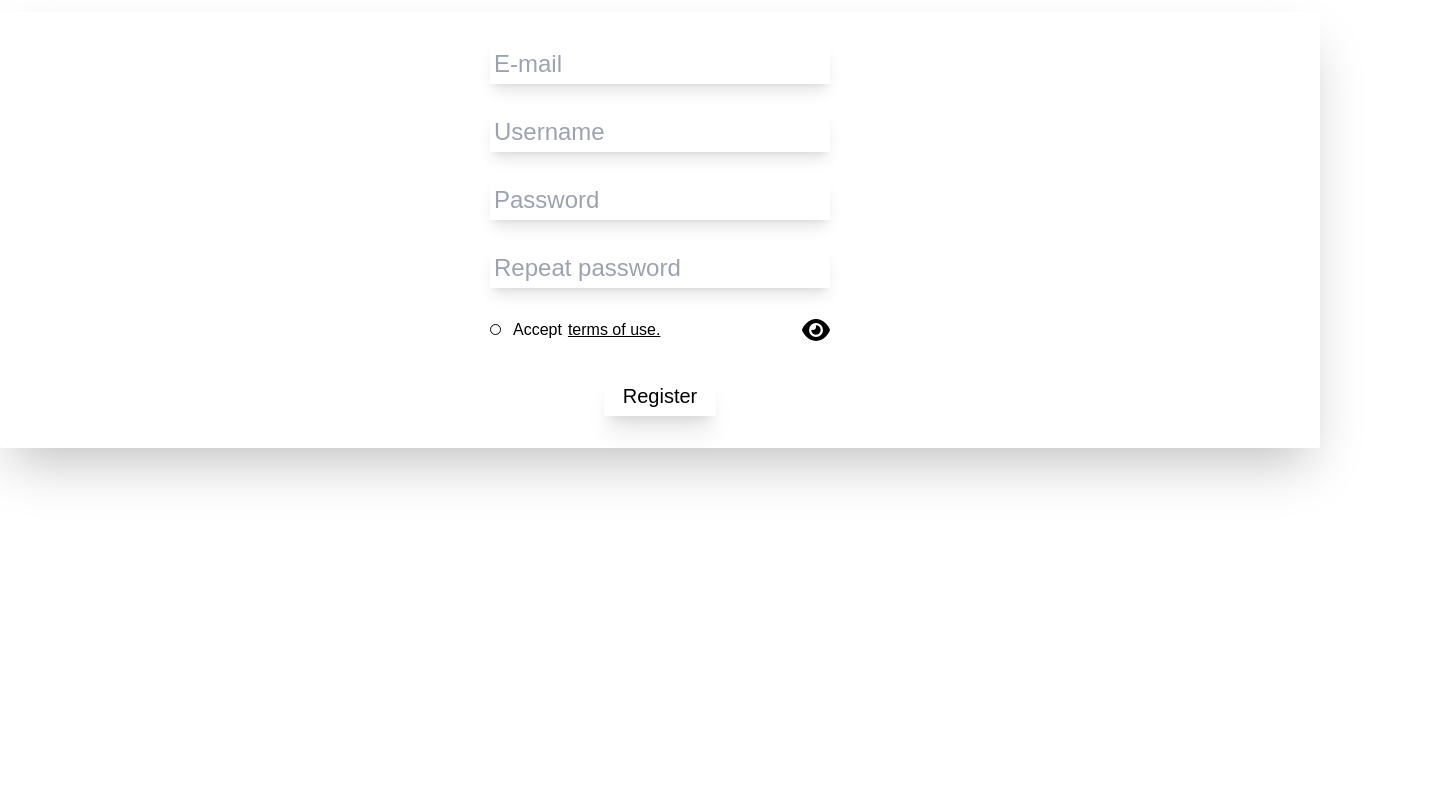
it: RegisterForm › should register user successfully when form is valid
The width and height of the screenshot is (1440, 810).
Type "valid@example.com" into the field with placeholder "E-mail".
click(660, 64); type("valid@example.com")  # box [490,44,830,84]
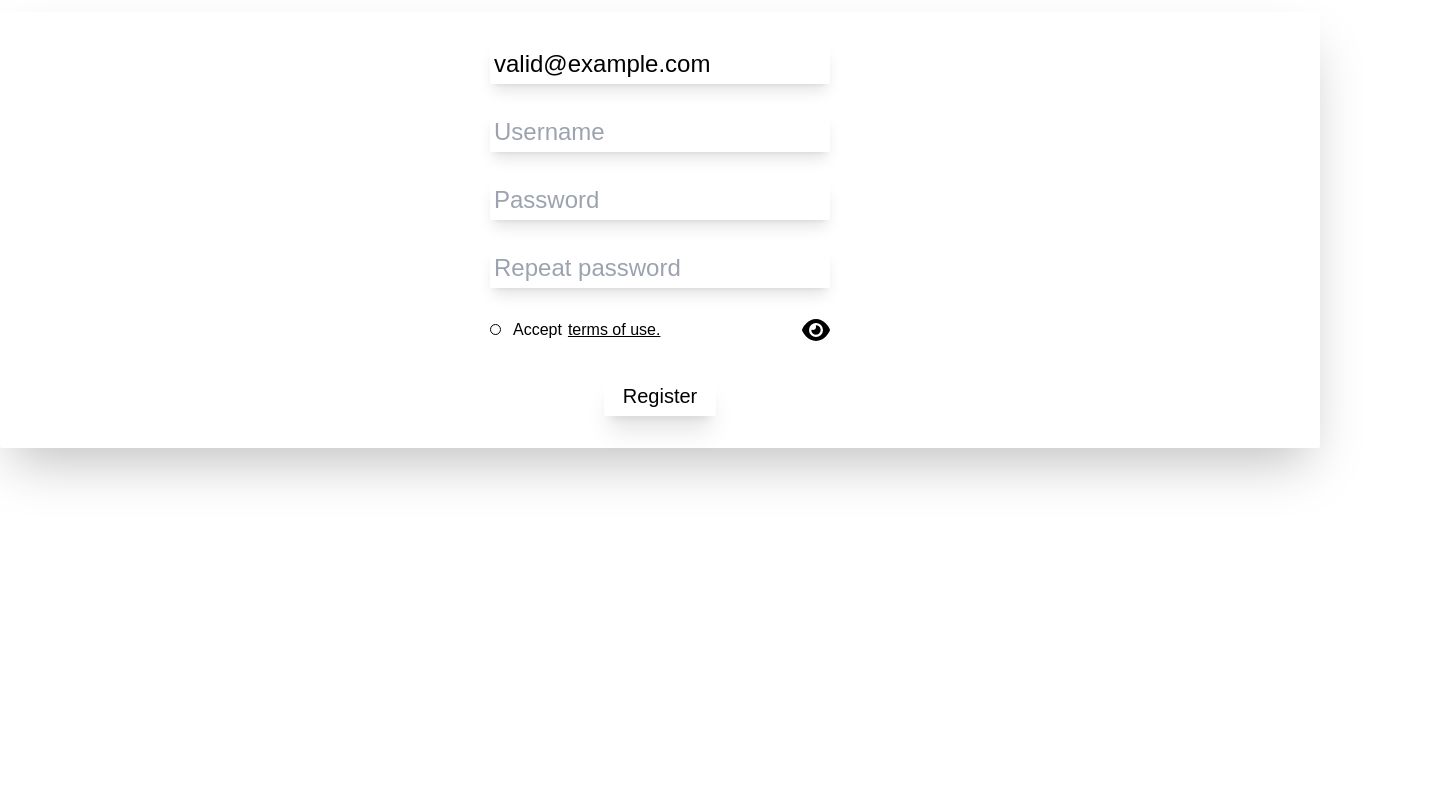
Type "validUsername" into the field with placeholder "Username".
click(660, 132); type("validUsername")  # box [490,112,830,152]
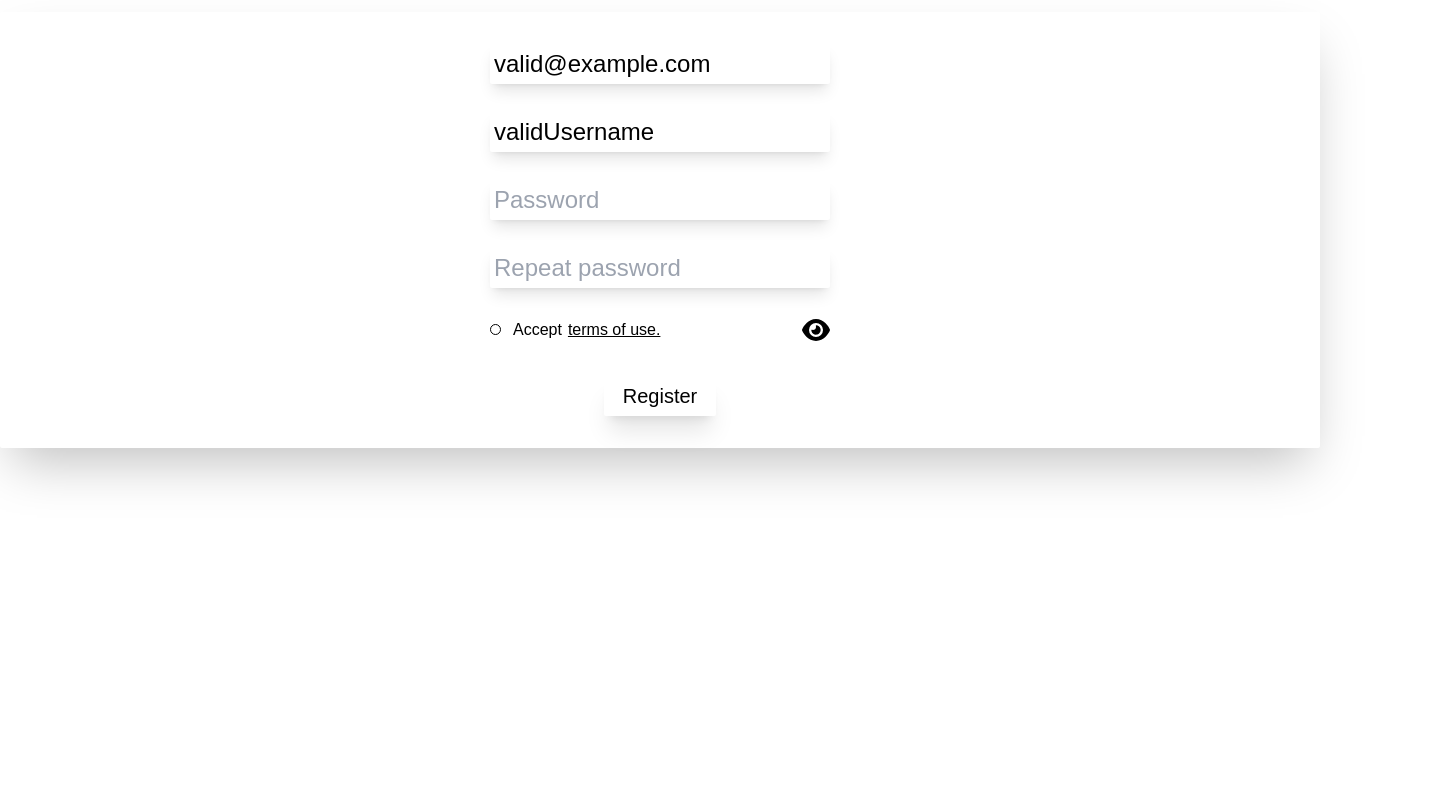
Type "Valid123" into the password field with placeholder "Password".
click(660, 200); type("Valid123")  # box [490,180,830,220]
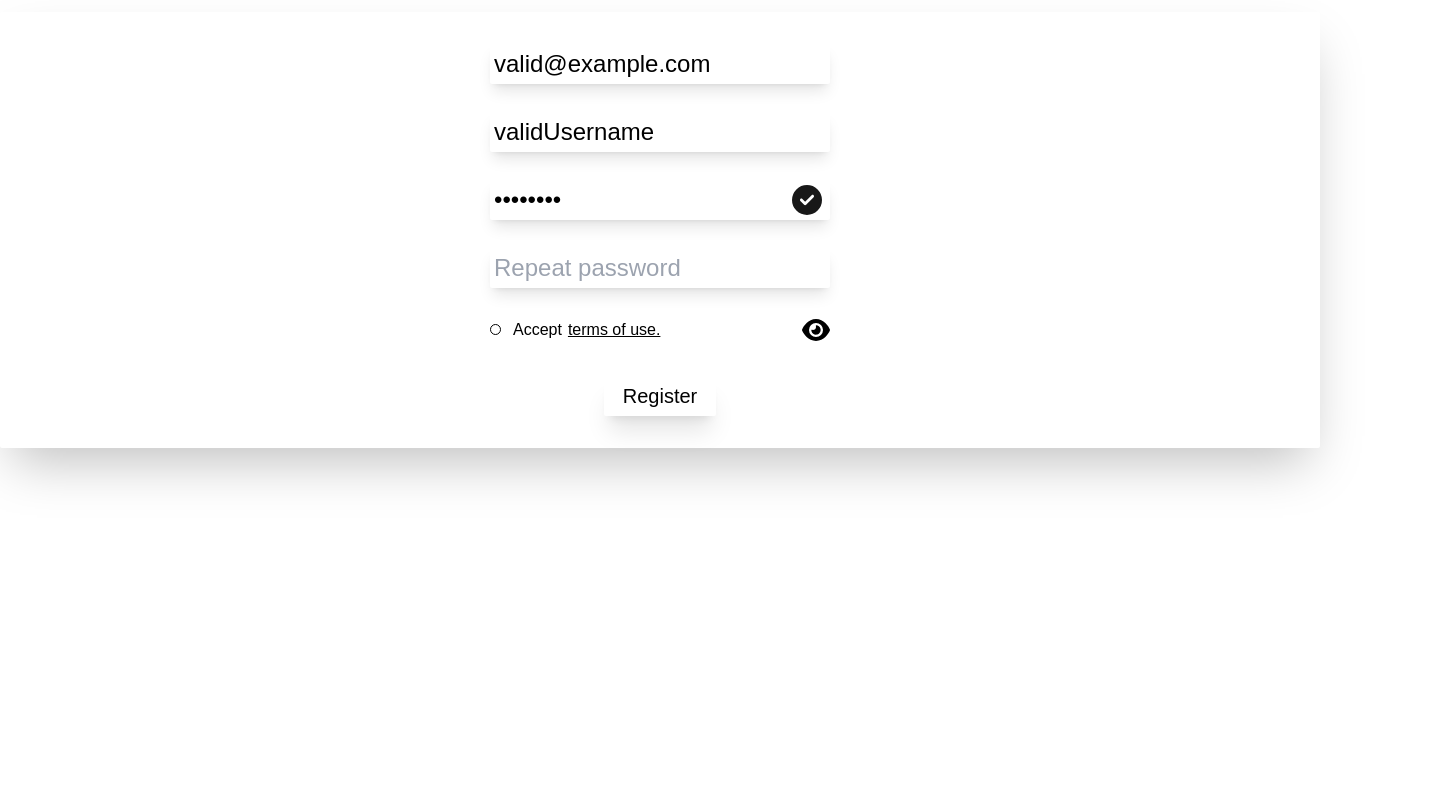
Type "Valid123" into the password field with placeholder "Repeat password".
click(660, 268); type("Valid123")  # box [490,248,830,288]
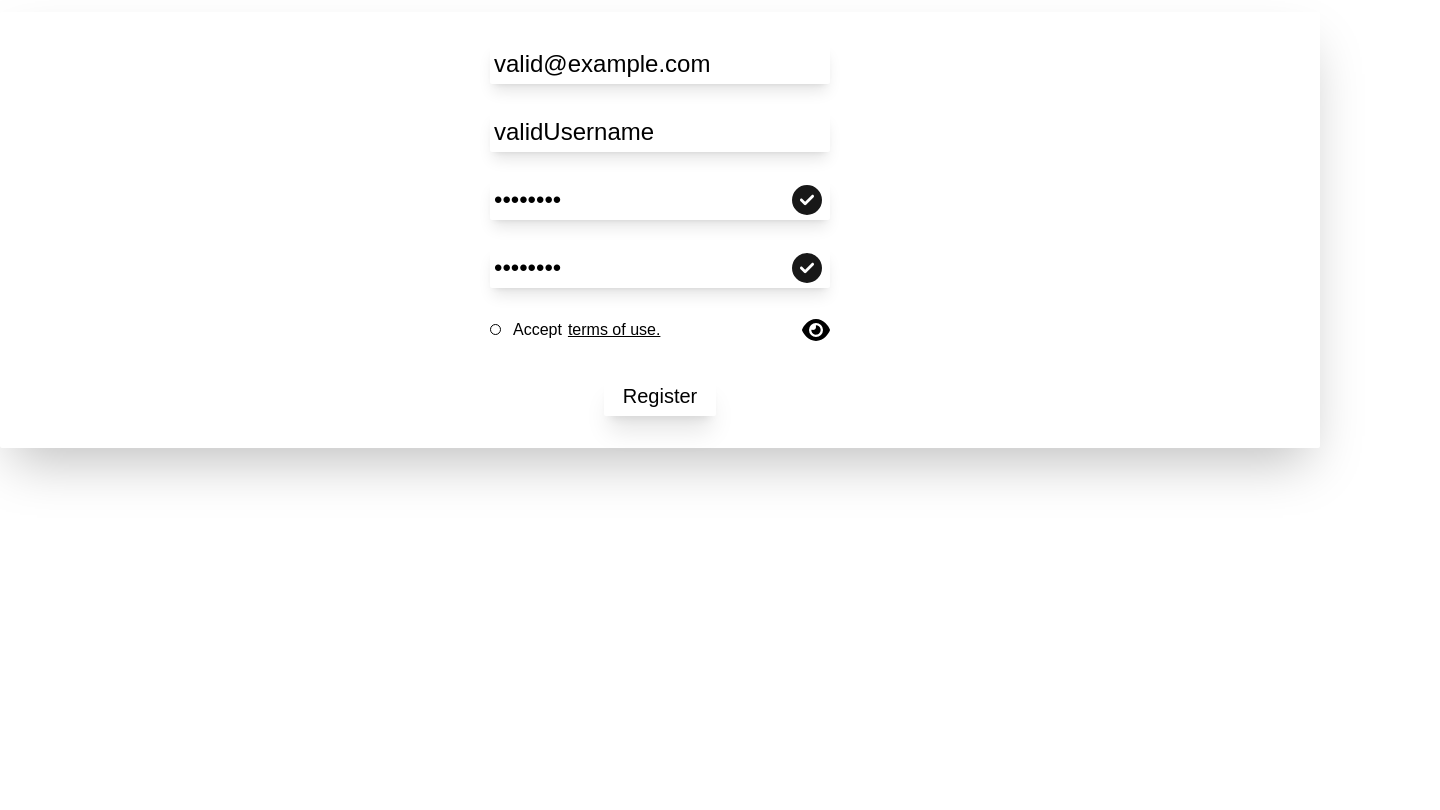
Click the checkbox labelled "Accept".
click(496, 330)  # box [490,324,501,335]
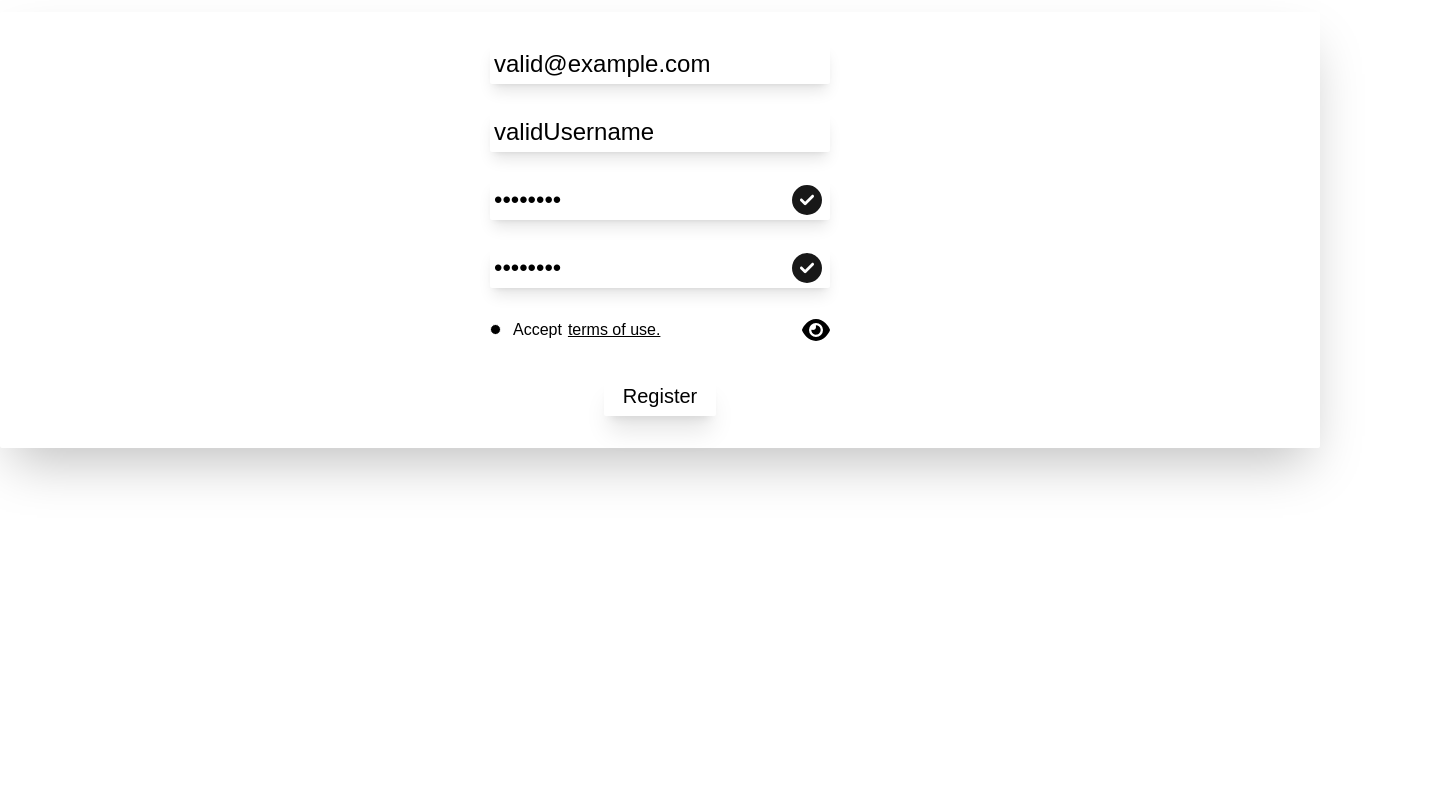
Click the button "Register".
click(660, 396)  # box [604,376,716,416]
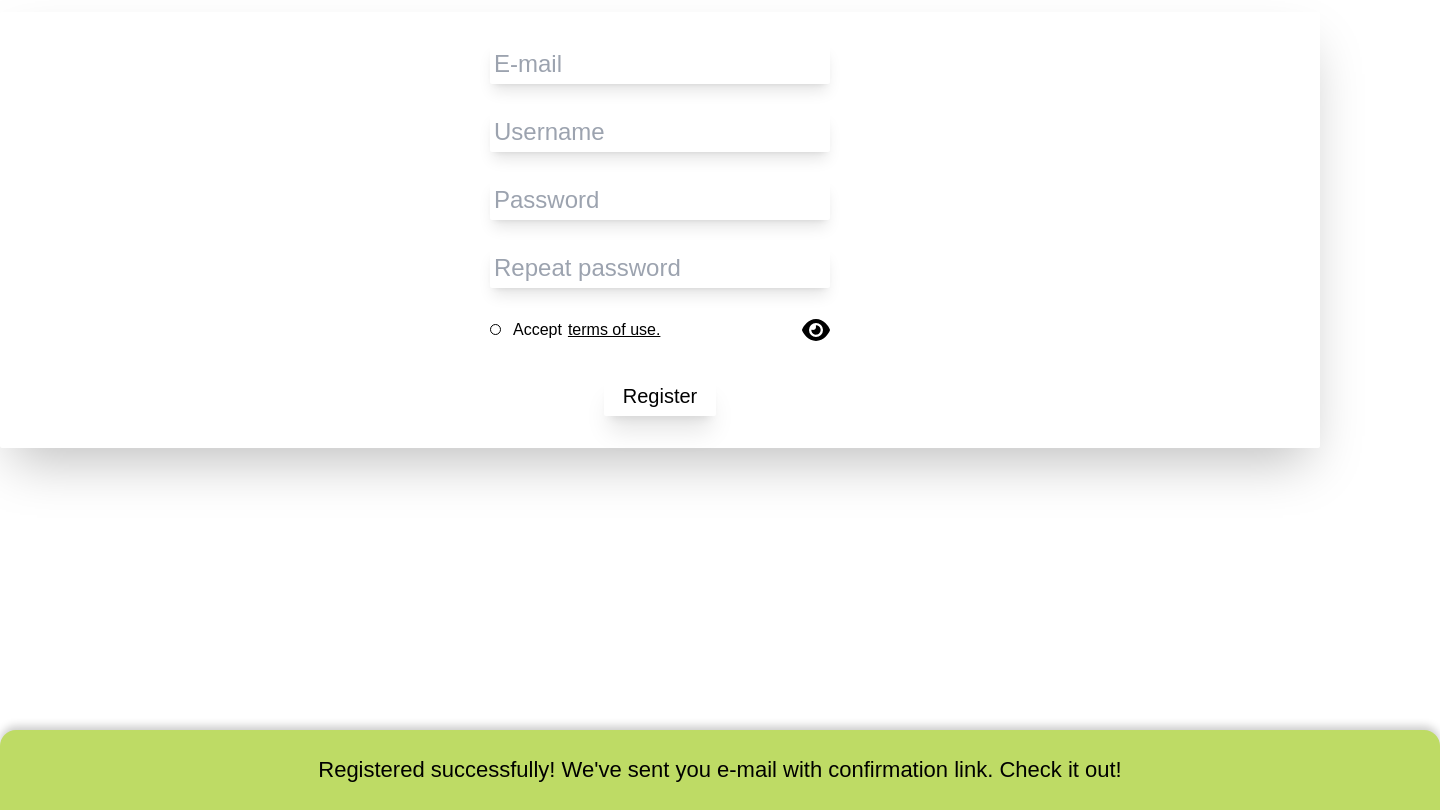
Now the text "Registered successfully! We've sent you e-mail with confirmation link. Check it out!" is shown, box [318,757,1122,782]
